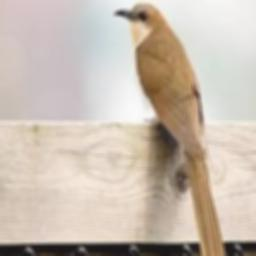Cuckoo: (113, 3, 226, 256)
